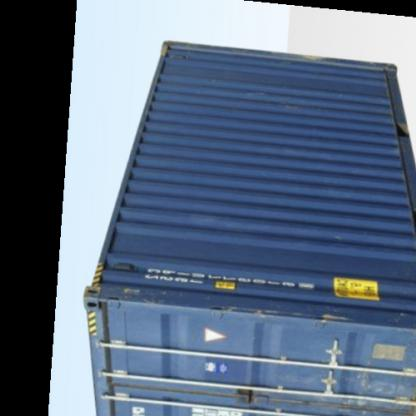Damage: (334, 364, 410, 414), (211, 292, 306, 324), (106, 284, 180, 322), (316, 224, 349, 256), (312, 310, 350, 334), (266, 100, 296, 120)
